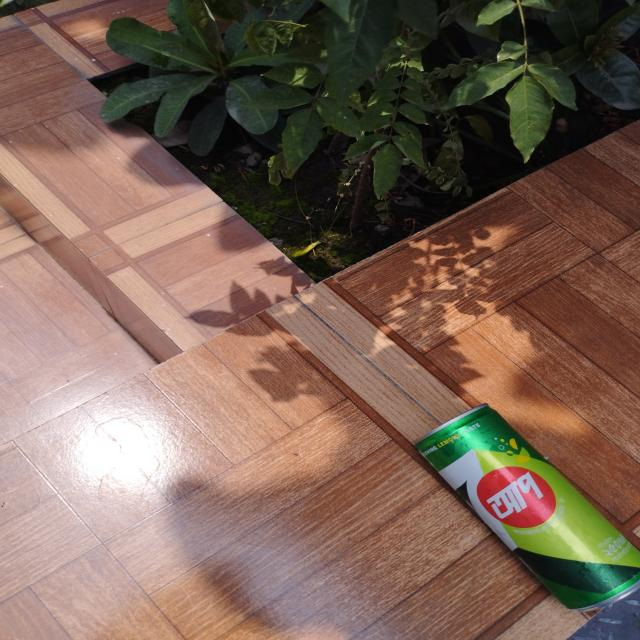aluminum: (406, 400, 640, 608)
